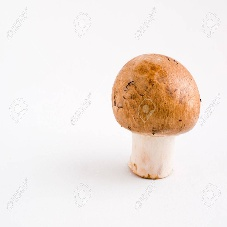mushroom: (112, 55, 203, 185)
